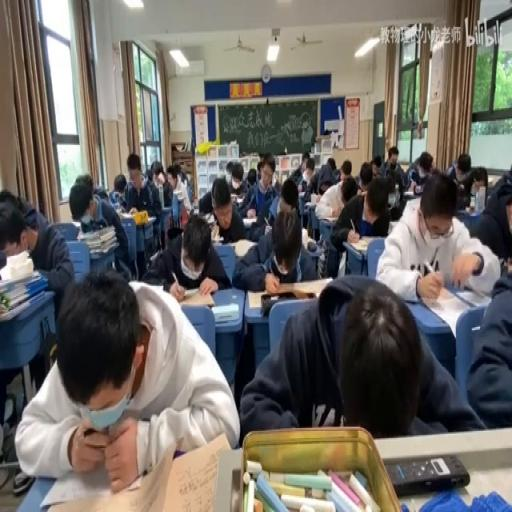calculator: (418, 284, 478, 340), (246, 278, 330, 308), (176, 287, 214, 307), (212, 300, 238, 322), (231, 236, 256, 256), (346, 236, 372, 253), (462, 283, 492, 297), (90, 244, 116, 258), (306, 238, 324, 254), (210, 223, 219, 242), (116, 209, 132, 219), (318, 215, 338, 223), (202, 212, 214, 225), (242, 215, 256, 226), (303, 199, 316, 208), (402, 191, 416, 199), (141, 215, 154, 223), (69, 219, 80, 228), (149, 250, 158, 260), (297, 190, 306, 198)
paper: (17, 266, 236, 491), (240, 273, 482, 438), (374, 171, 498, 303), (1, 190, 75, 312), (466, 258, 512, 426), (232, 201, 317, 290), (144, 209, 229, 294), (71, 175, 131, 282), (328, 173, 390, 276), (124, 152, 163, 263), (381, 149, 406, 202), (446, 152, 474, 199), (405, 148, 434, 192), (225, 161, 248, 203), (485, 163, 512, 196), (296, 156, 318, 195), (278, 178, 298, 210), (110, 170, 128, 204), (150, 160, 168, 190), (341, 176, 357, 202), (358, 161, 372, 189), (471, 165, 487, 188), (166, 162, 179, 189), (0, 186, 17, 206), (74, 174, 92, 190), (92, 186, 108, 200), (245, 166, 256, 186), (272, 170, 282, 188), (318, 180, 330, 194), (372, 154, 382, 170), (341, 161, 351, 176), (255, 159, 262, 179), (331, 168, 341, 182), (181, 171, 190, 186), (327, 156, 336, 170), (139, 174, 147, 188), (301, 176, 307, 190), (301, 158, 307, 171)
person: (386, 452, 470, 496)
